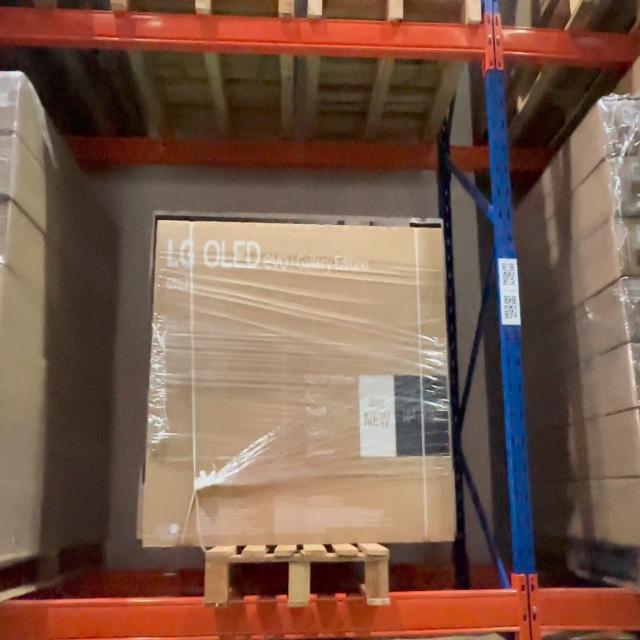box: (158, 228, 441, 546), (606, 99, 640, 153), (614, 157, 640, 213)
